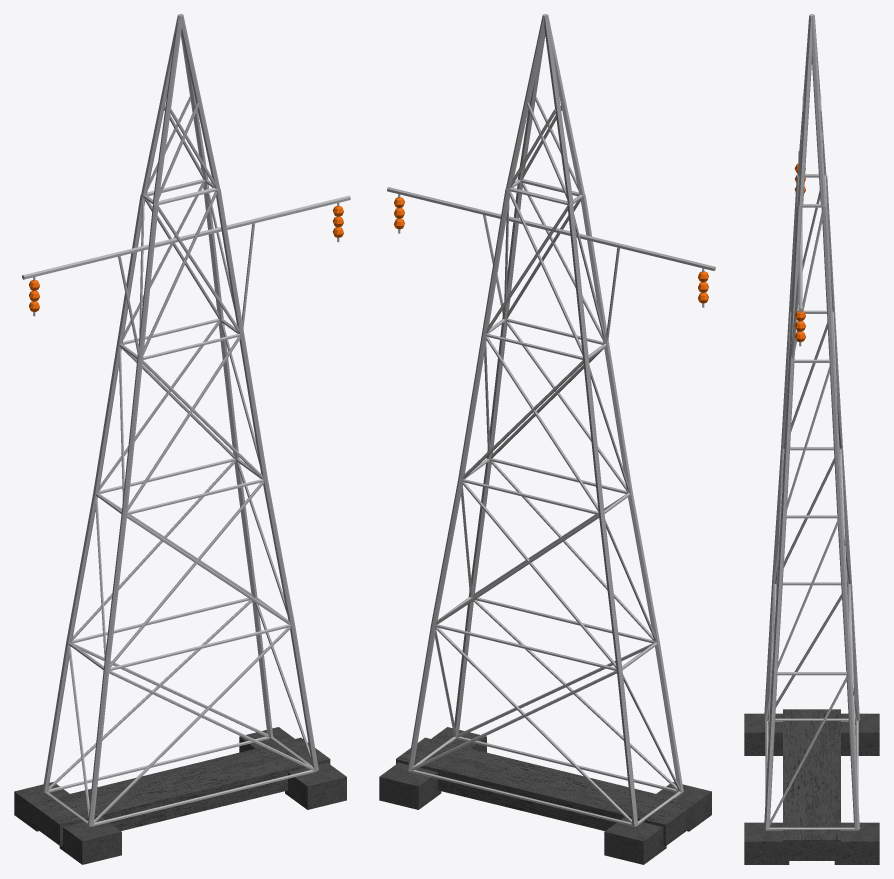
The model's file is Torretension.fbx.
3 views of the same model, side by side, from view 1: azimuth 30°, elevation 25°; view 2: azimuth 150°, elevation 25°; view 3: azimuth 270°, elevation 25° (orthographic).
Visible parts, largest first — view 1: Torre, Base; view 2: Torre, Base; view 3: Torre, Base, Aisladores.
Boxes of the visible parts, box(x1,y1,x2,y2) form: Torre: box(22, 14, 350, 826); Base: box(14, 727, 346, 864); Torre: box(387, 14, 715, 826); Base: box(379, 727, 711, 864); Torre: box(764, 14, 859, 830); Base: box(744, 709, 879, 864); Aisladores: box(794, 163, 805, 341).
Size of the model in its own units: 580 by 1346 by 210.
Materials: 3 (3 with a texture image).
